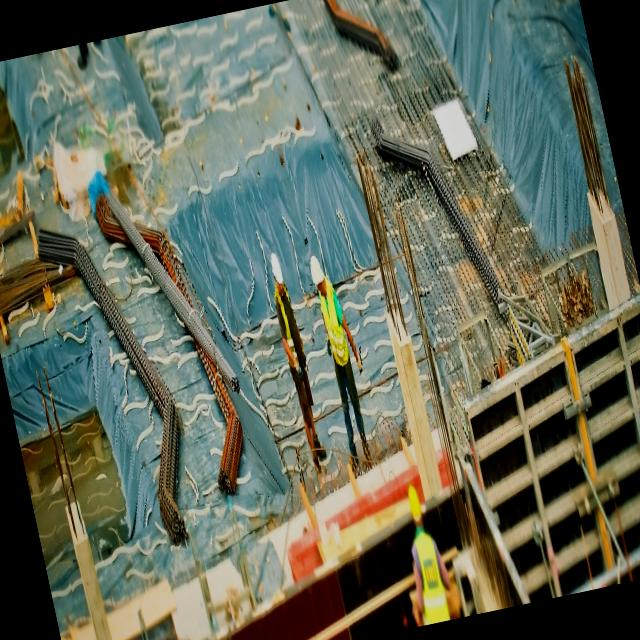helmet: (304, 247, 332, 298), (266, 246, 288, 293)
vest: (313, 276, 357, 382), (272, 283, 304, 368)
